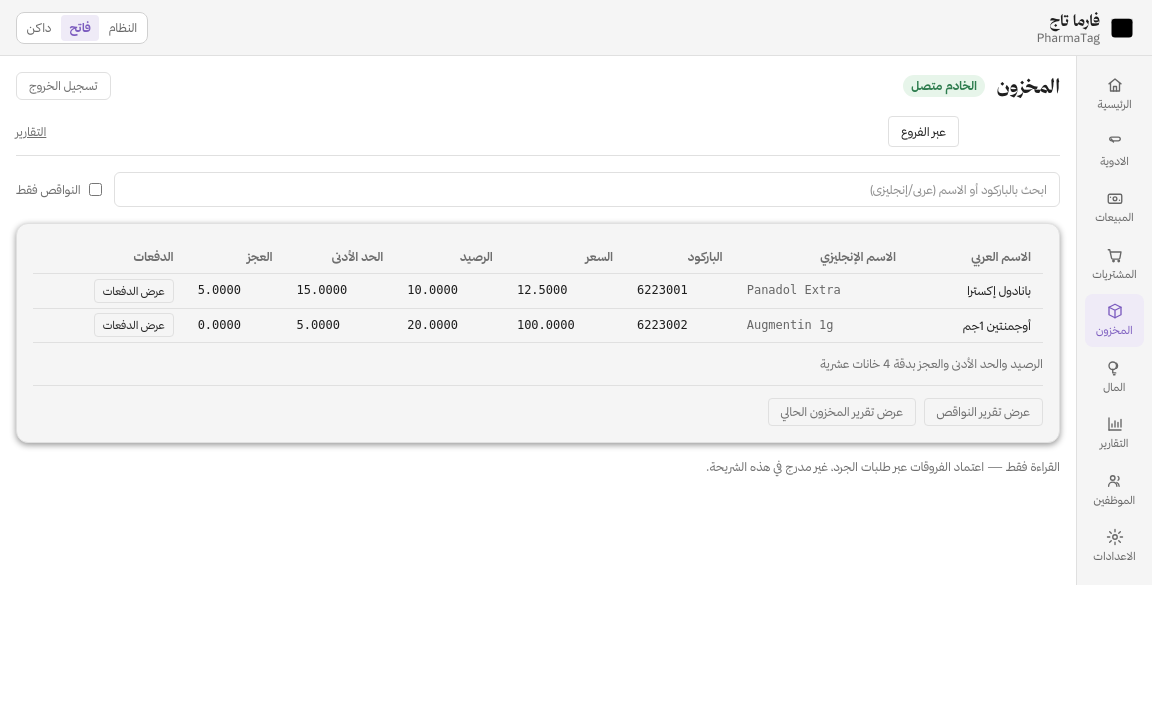
Test: StockPage — wiring & edge cases › cross-branch toggle shows cross-branch data with branch name, shortage 4dp, truncated flag and shortage sort
Click the button "عبر الفروع": (924, 132) 888,116 -> 959,147
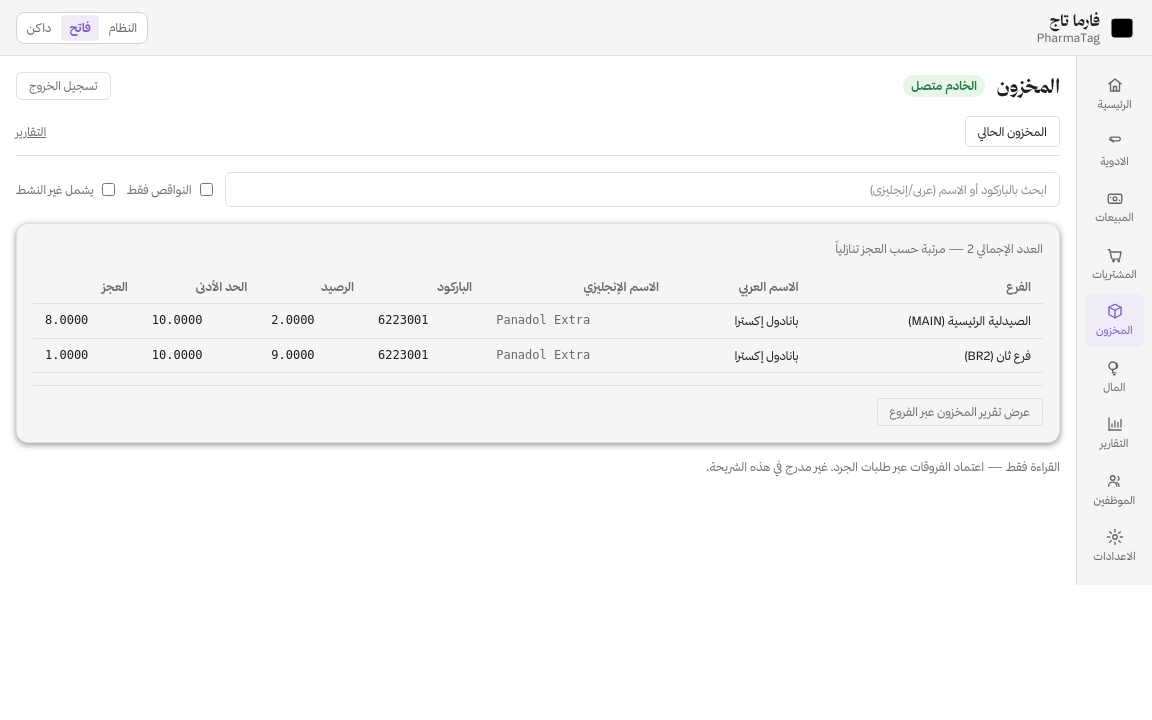
Now the text "الصيدلية الرئيسية" is shown, box 948,313 -> 1031,328
Now the text "فرع ثان" is shown, box 997,348 -> 1031,363
Now the text "8.0000" is shown, box 33,304 -> 140,338
